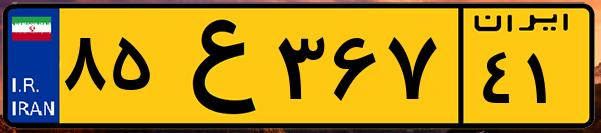1: (525, 38, 570, 115)
3: (270, 28, 330, 110)
4: (475, 38, 525, 113)
5: (110, 28, 158, 98)
6: (330, 28, 385, 110)
7: (385, 28, 445, 110)
8: (57, 26, 110, 100)
ع: (158, 12, 270, 120)
